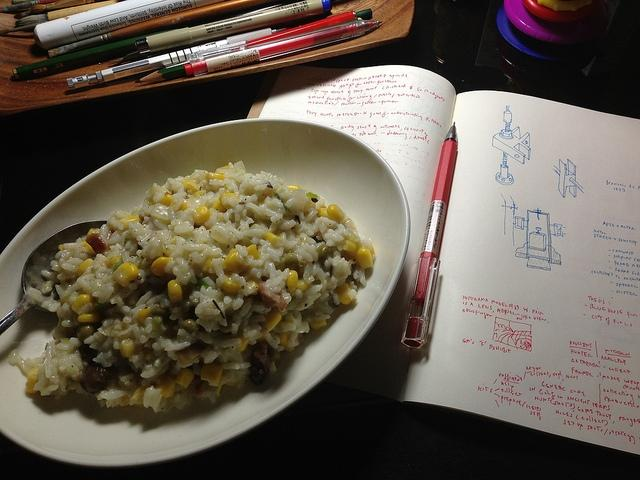corn: (150, 372, 176, 398), (113, 262, 139, 286), (258, 310, 282, 334), (85, 233, 108, 254), (200, 363, 222, 384), (224, 252, 245, 274), (130, 385, 152, 405), (151, 256, 172, 276), (222, 271, 240, 294), (25, 366, 39, 395), (174, 368, 194, 388), (335, 284, 355, 304), (118, 215, 143, 231), (262, 232, 286, 248), (219, 190, 238, 210), (72, 294, 92, 312), (168, 280, 183, 304), (356, 248, 373, 269), (327, 205, 344, 224), (120, 338, 136, 358), (192, 206, 210, 223), (138, 306, 154, 325), (153, 192, 173, 207), (286, 270, 298, 294), (78, 258, 93, 276), (246, 244, 262, 260), (182, 178, 198, 194), (78, 313, 100, 323), (212, 199, 227, 212), (82, 240, 96, 253), (310, 320, 327, 330), (236, 340, 250, 352), (205, 172, 225, 180), (344, 239, 356, 252), (317, 208, 330, 219), (284, 185, 302, 191), (178, 201, 188, 211)
